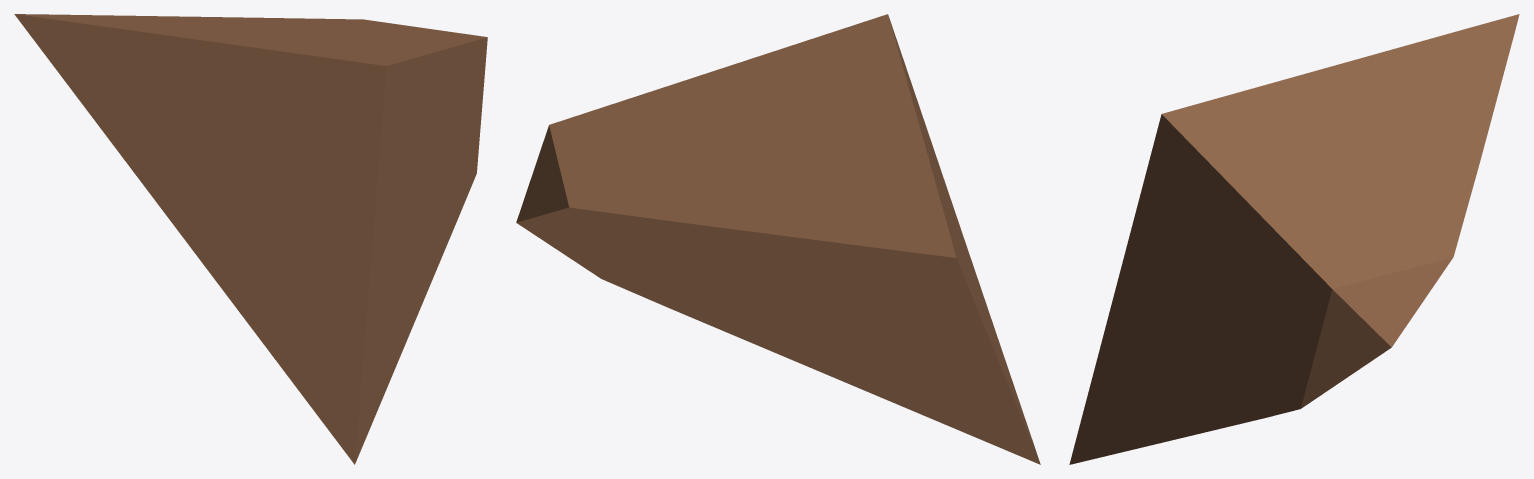
The model's file is WoodCellCube_003_cell_016.fbx.
3 renders of one model, left to right at view 1: azimuth 30°, elevation 25°; view 2: azimuth 150°, elevation 25°; view 3: azimuth 270°, elevation 25°, orthographic. The views are drawn at different scales.
Parts seen in each view (by area): view 1: WoodCellCube_003_cell_016; view 2: WoodCellCube_003_cell_016; view 3: WoodCellCube_003_cell_016.
Part boxes in pixels (box(x1,y1,x2,y2)): WoodCellCube_003_cell_016: box(14, 14, 487, 464); WoodCellCube_003_cell_016: box(516, 14, 1040, 464); WoodCellCube_003_cell_016: box(1069, 14, 1519, 464).
Size of the model in its own units: 0.1426 by 0.1366 by 0.1588.
Materials: 1 (1 with a texture image).
